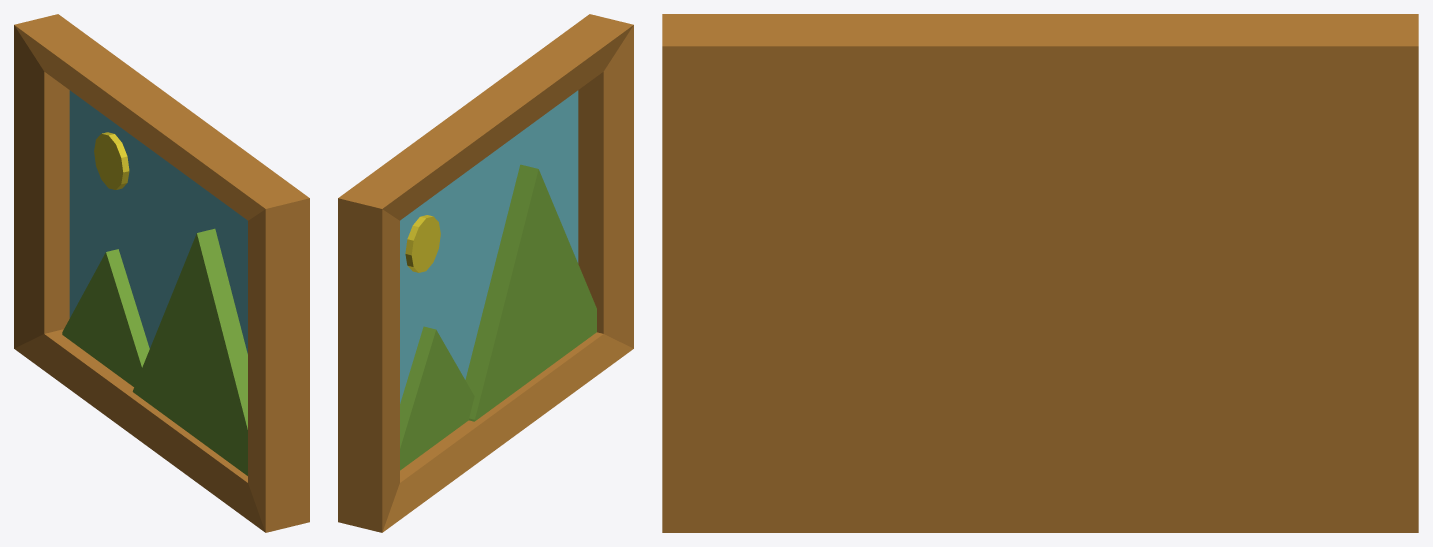
Rendered from painting-2.glb.
3 views of the same model, side by side, from view 1: azimuth 30°, elevation 25°; view 2: azimuth 150°, elevation 25°; view 3: azimuth 270°, elevation 25° (orthographic). The views are drawn at different scales.
Parts seen in each view (by area): view 1: node_MeshObject-1308988608-PolyPaper9; view 2: node_MeshObject-1308988608-PolyPaper9; view 3: node_MeshObject-1308988608-PolyPaper9.
Part boxes in pixels (<box>): node_MeshObject-1308988608-PolyPaper9: <box>14,14,309,532</box>; node_MeshObject-1308988608-PolyPaper9: <box>338,14,633,532</box>; node_MeshObject-1308988608-PolyPaper9: <box>662,14,1418,532</box>.
Bounding box in the file's own units: 0.07 × 0.49 × 0.69.
